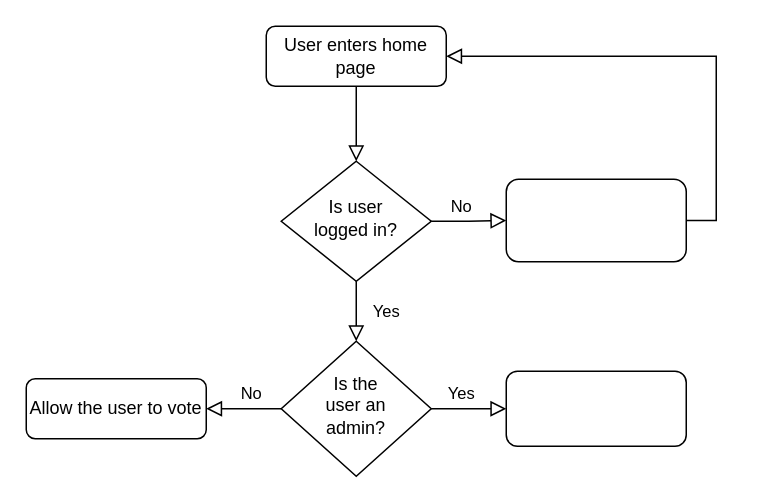
The diagram is 758 pixels wide and 503 high, and some of its shapes have lost their labels. The shapes that lost their labels are listed below. From the top down, each one's box as (x1, y1, x2, y2) in pixels, then its label:
(505, 178, 686, 262): Tell the user they need to log in to use the application
(505, 370, 686, 446): Allow user to access the management page
